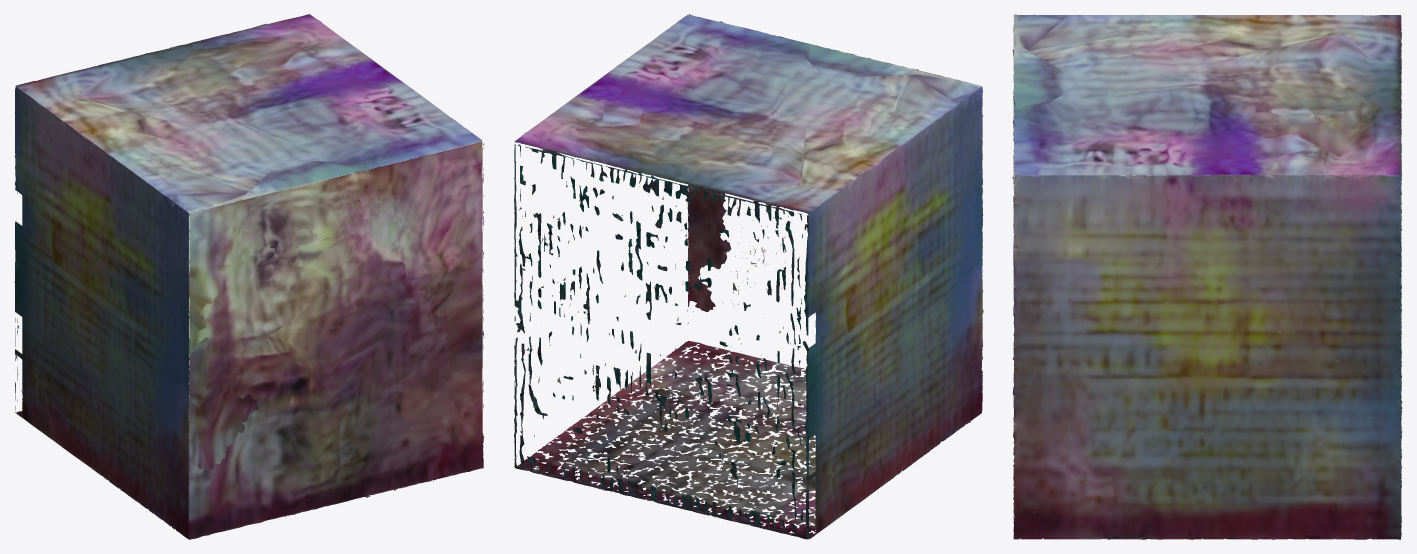
The model's file is ration_1788635717_27906628.glb.
3 renders of one model, left to right at view 1: azimuth 30°, elevation 25°; view 2: azimuth 150°, elevation 25°; view 3: azimuth 270°, elevation 25°, orthographic. The views are drawn at different scales.
Parts seen in each view (by area): view 1: Hero; view 2: Hero; view 3: Hero.
Part boxes in pixels (x1,y1,x2,y2): Hero: (14, 14, 484, 539); Hero: (514, 14, 983, 539); Hero: (1012, 14, 1402, 539).
Size of the model in its own units: 0.9514 by 1.01 by 0.9711.
1 material, 1 textured.
